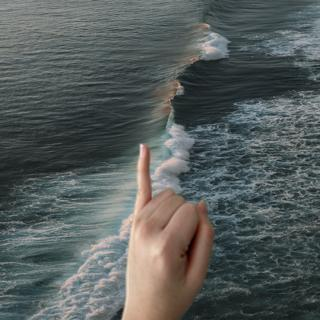Fine: (116, 139, 223, 313)
